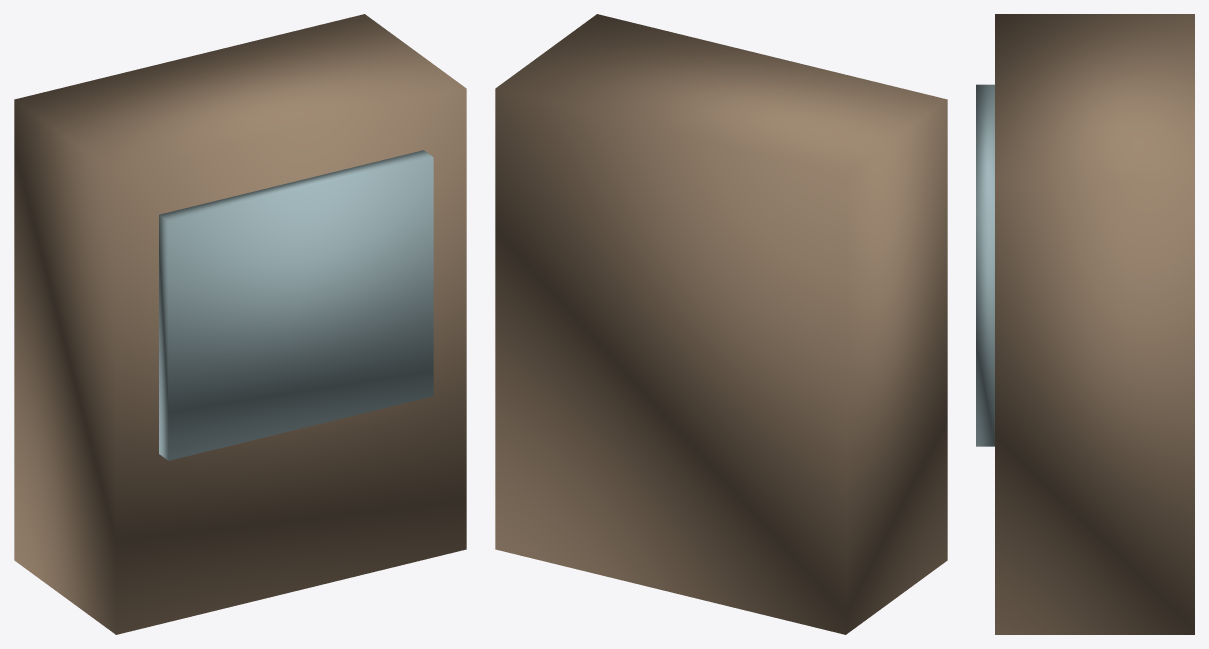
File: shrine_cabinet__squat.glb
3 views of the same model, side by side, from view 1: azimuth 30°, elevation 25°; view 2: azimuth 150°, elevation 25°; view 3: azimuth 270°, elevation 25° (orthographic).
Parts seen in each view (by area): view 1: world; view 2: world; view 3: world.
Boxes of the visible parts, x1,y1,x2,y2 form: world: [14, 14, 466, 634]; world: [495, 14, 947, 634]; world: [976, 14, 1194, 634].
Bounding box in the file's own units: 0.902 × 1.13 × 0.4968.
